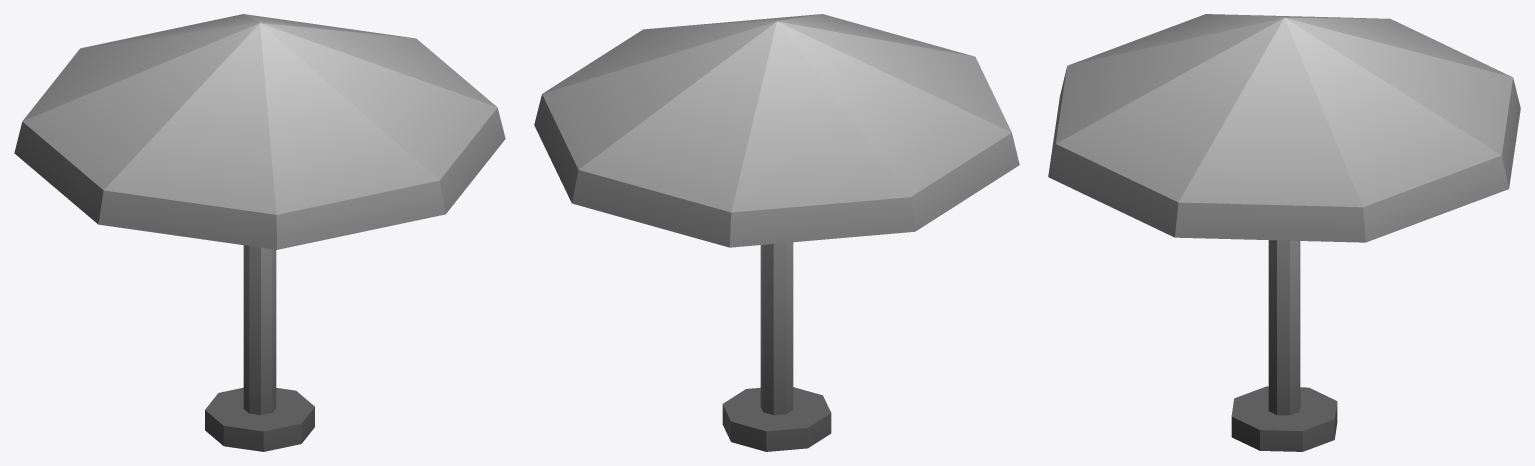
Rendered from umbrella.fbx.
3 views of the same model, side by side, from view 1: azimuth 30°, elevation 25°; view 2: azimuth 150°, elevation 25°; view 3: azimuth 270°, elevation 25° (orthographic).
Visible parts, largest first — view 1: umbrella; view 2: umbrella; view 3: umbrella.
Part boxes in pixels (x1,y1,x2,y2): umbrella: (14,14,505,451); umbrella: (534,14,1019,451); umbrella: (1048,14,1520,451).
Size of the model in its own units: 241 by 232 by 241.
1 material, 1 textured.
